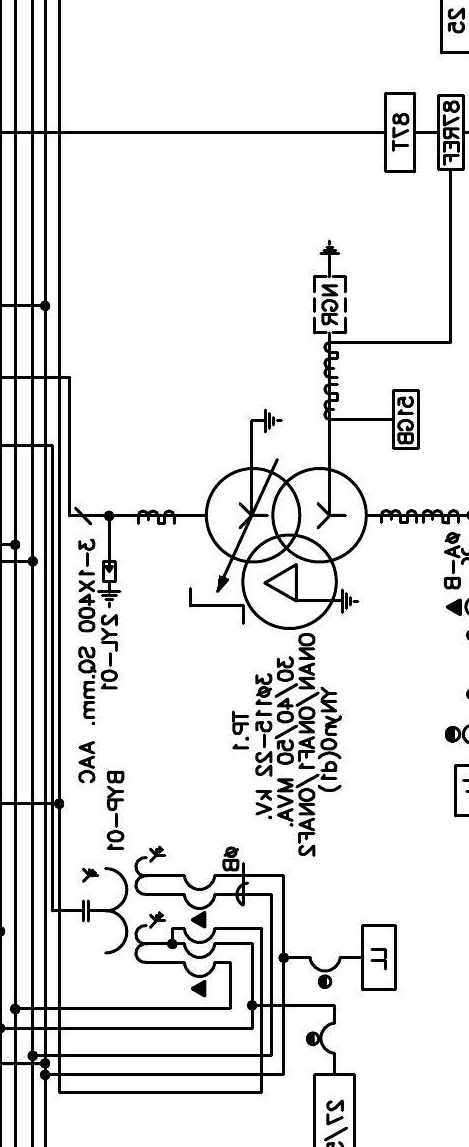11522_tx_ynyn0d1: (204, 465, 369, 631)
115_cvt_3p: (82, 845, 167, 965)
115_la: (96, 560, 122, 609)
LL: (361, 924, 397, 991)
NGR_future: (313, 239, 347, 334)
